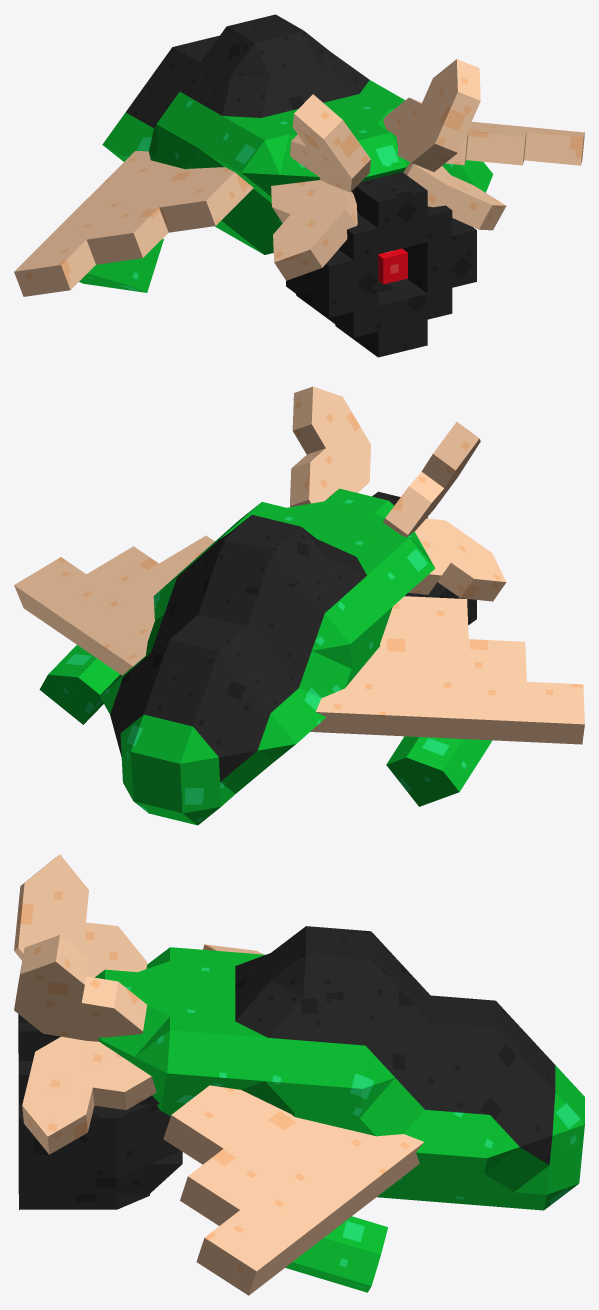
File: C1_little prince spaceship with engine.FBX
3 views of the same model, one above another, from view 1: azimuth 30°, elevation 25°; view 2: azimuth 150°, elevation 25°; view 3: azimuth 270°, elevation 25° (orthographic). The views are drawn at different scales.
Parts seen in each view (by area): view 1: Box042, Box038, Box020, Group001, Box041, Box043, Box024; view 2: Group001, Box042, Box020, Box041, Box043, Box024, Box038; view 3: Box041, Box020, Group001, Box038, Box042, Box024.
Part boxes in pixels (left/top/right/bottom): Box042: left=14, top=94, right=370, bottom=296; Box038: left=286, top=172, right=476, bottom=357; Box020: left=102, top=80, right=409, bottom=254; Group001: left=126, top=14, right=407, bottom=284; Box041: left=383, top=59, right=584, bottom=230; Box043: left=79, top=239, right=163, bottom=292; Box024: left=442, top=160, right=493, bottom=192; Group001: left=110, top=514, right=366, bottom=781; Box042: left=310, top=422, right=584, bottom=744; Box020: left=99, top=488, right=435, bottom=825; Box041: left=14, top=386, right=370, bottom=675; Box043: left=386, top=736, right=492, bottom=806; Box024: left=39, top=645, right=121, bottom=724; Box038: left=372, top=491, right=476, bottom=624; Box041: left=14, top=935, right=423, bottom=1295; Box020: left=95, top=947, right=584, bottom=1210; Group001: left=235, top=926, right=555, bottom=1164; Box038: left=18, top=1014, right=182, bottom=1209; Box042: left=14, top=854, right=263, bottom=977; Box024: left=285, top=1216, right=387, bottom=1292.
Size of the model in its own units: 137 by 60.58 by 103.
Materials: 1 (1 with a texture image).
